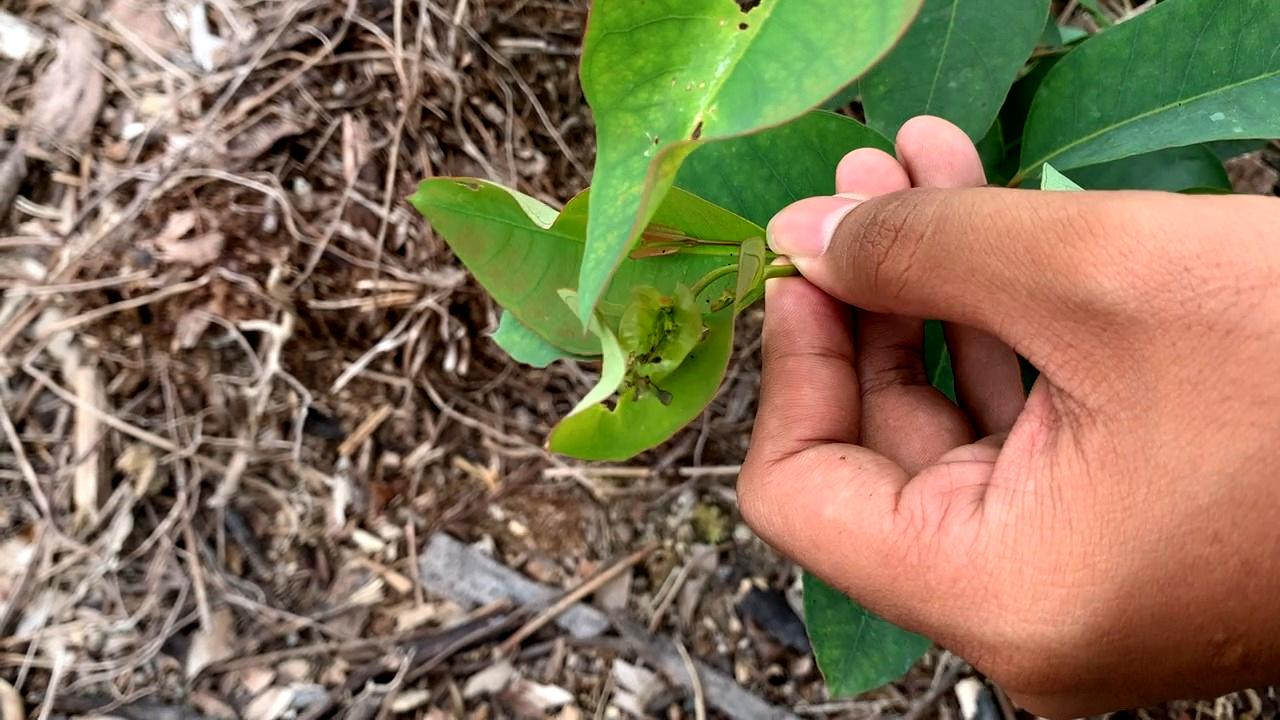Leaf Roller - Leaf: (547, 202, 775, 502)
